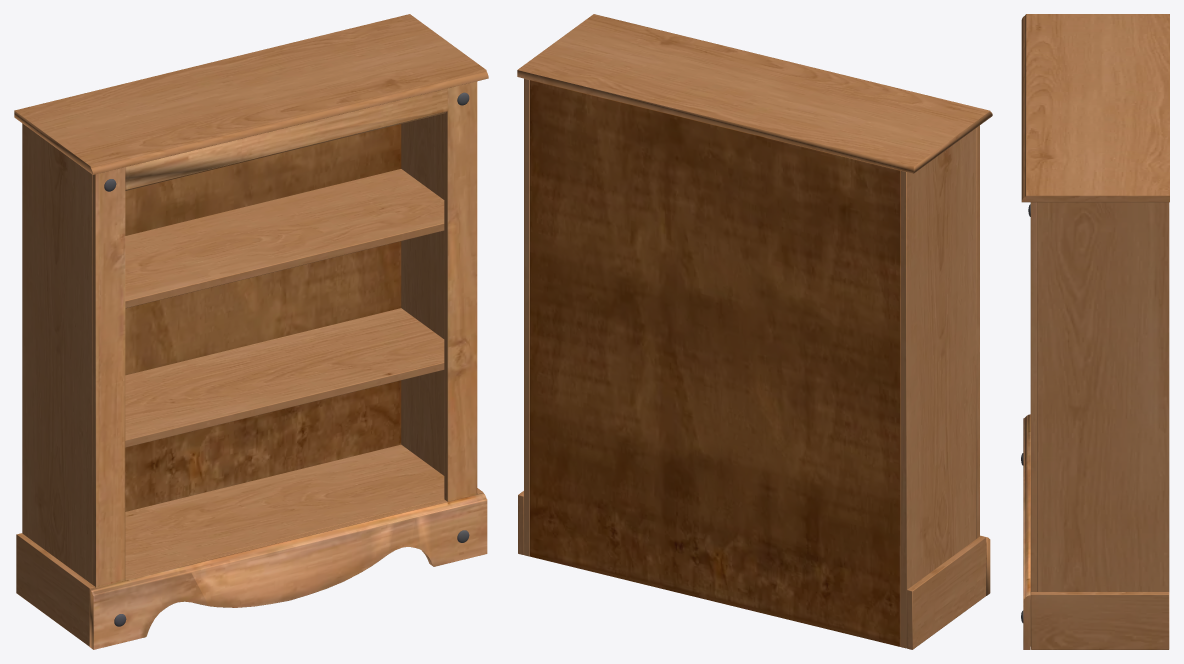
Rendered from B01DDQMQO0.glb.
3 views of the same model, side by side, from view 1: azimuth 30°, elevation 25°; view 2: azimuth 150°, elevation 25°; view 3: azimuth 270°, elevation 25° (orthographic). The views are drawn at different scales.
Parts seen in each view (by area): view 1: B01DDQMQO0; view 2: B01DDQMQO0; view 3: B01DDQMQO0.
Part boxes in pixels (bbox=[...]): B01DDQMQO0: bbox=[14, 14, 488, 649]; B01DDQMQO0: bbox=[517, 14, 992, 649]; B01DDQMQO0: bbox=[1021, 14, 1169, 649].
Size of the model in its own units: 0.8401 by 0.9796 by 0.2907.
1 material, 1 textured.
